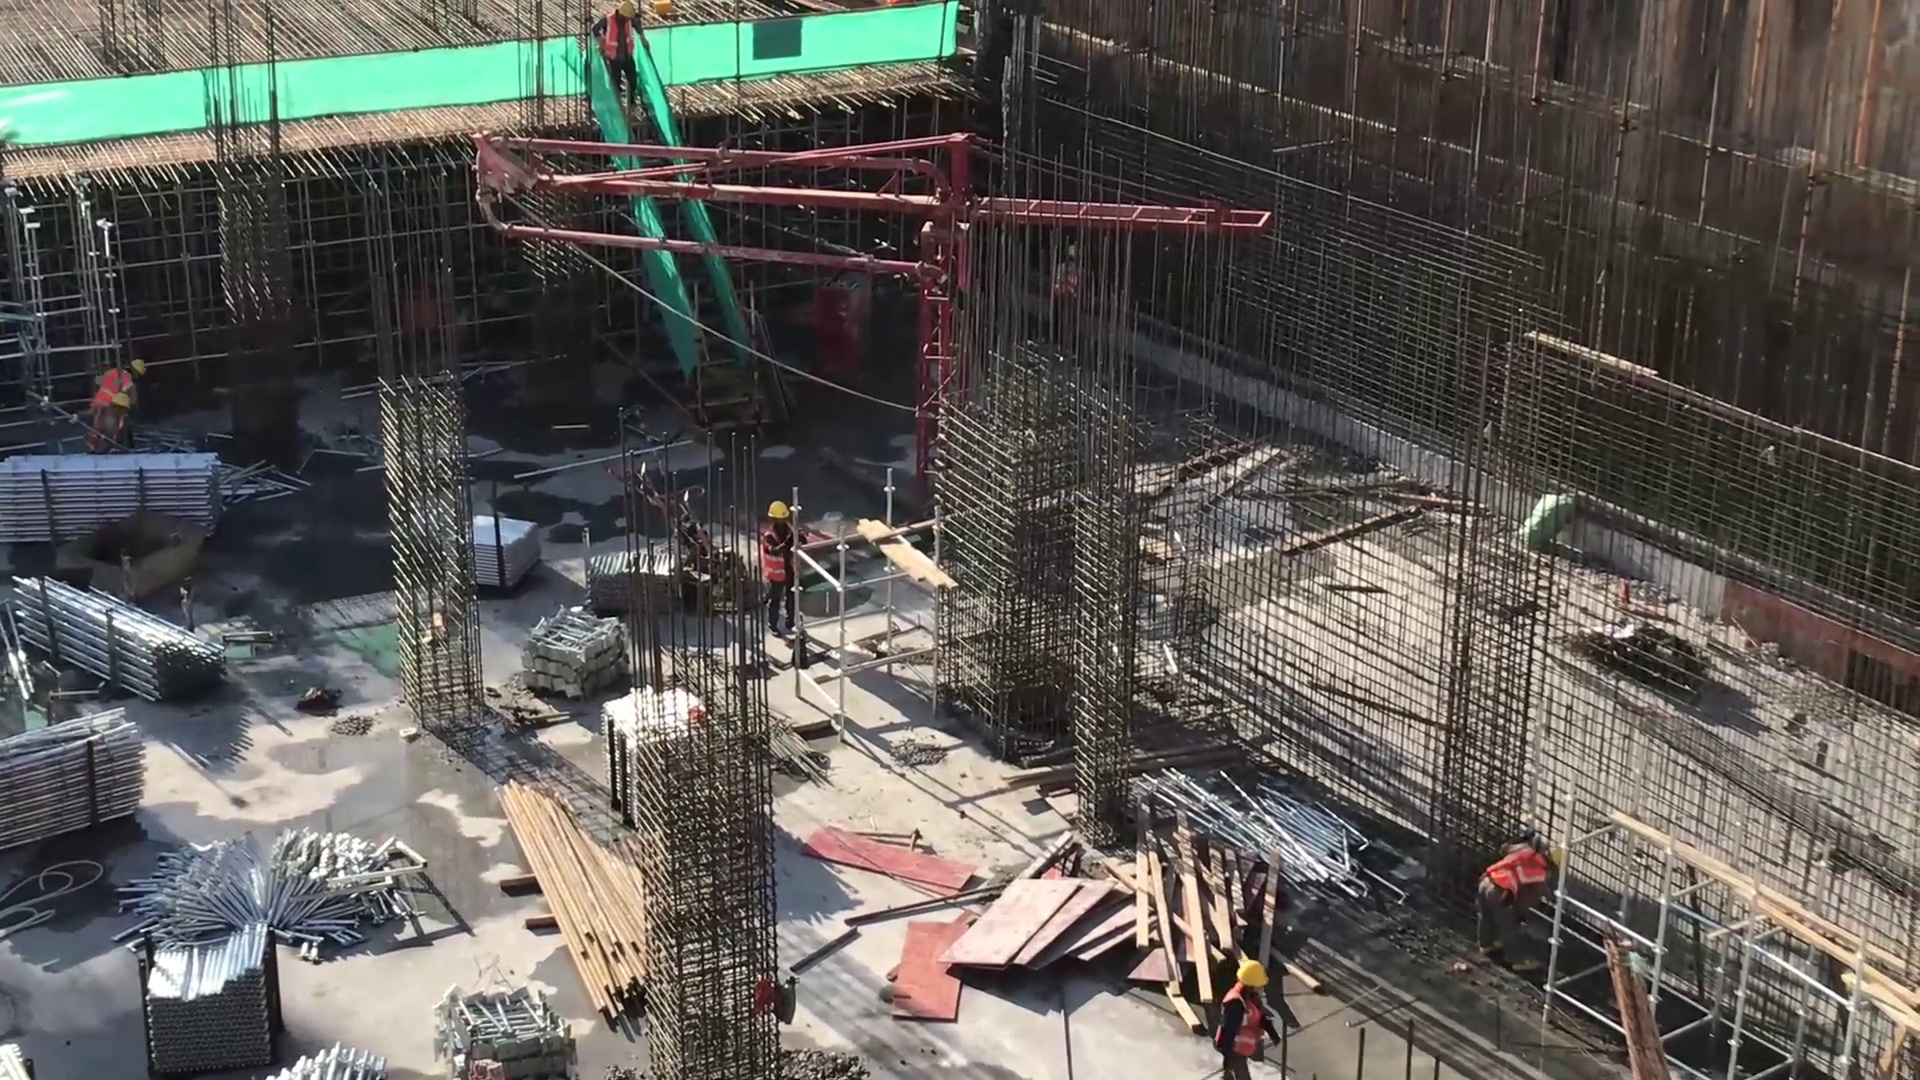board: (946, 874, 1124, 970)
helmet: (1232, 956, 1267, 986), (128, 358, 153, 375), (109, 393, 130, 410), (768, 501, 788, 516)
person: (1473, 829, 1575, 966), (1209, 964, 1276, 1080), (591, 1, 648, 111), (762, 497, 801, 631), (93, 354, 143, 438), (94, 392, 136, 460)
scaffold: (1170, 762, 1363, 888), (27, 579, 220, 695), (147, 919, 286, 1068), (16, 457, 239, 543), (1, 711, 151, 837), (467, 518, 548, 597), (266, 1051, 402, 1080), (586, 541, 632, 618)
vest: (1216, 988, 1264, 1057), (1486, 848, 1548, 897), (762, 525, 796, 585), (604, 14, 637, 66)
wood: (501, 766, 665, 1016), (1143, 827, 1302, 965)
